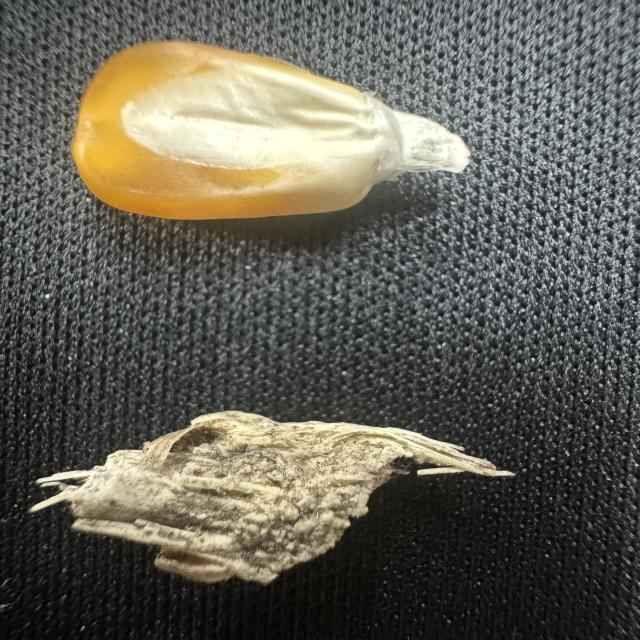Bad-Seed: (22, 396, 519, 593), (64, 34, 478, 232)
